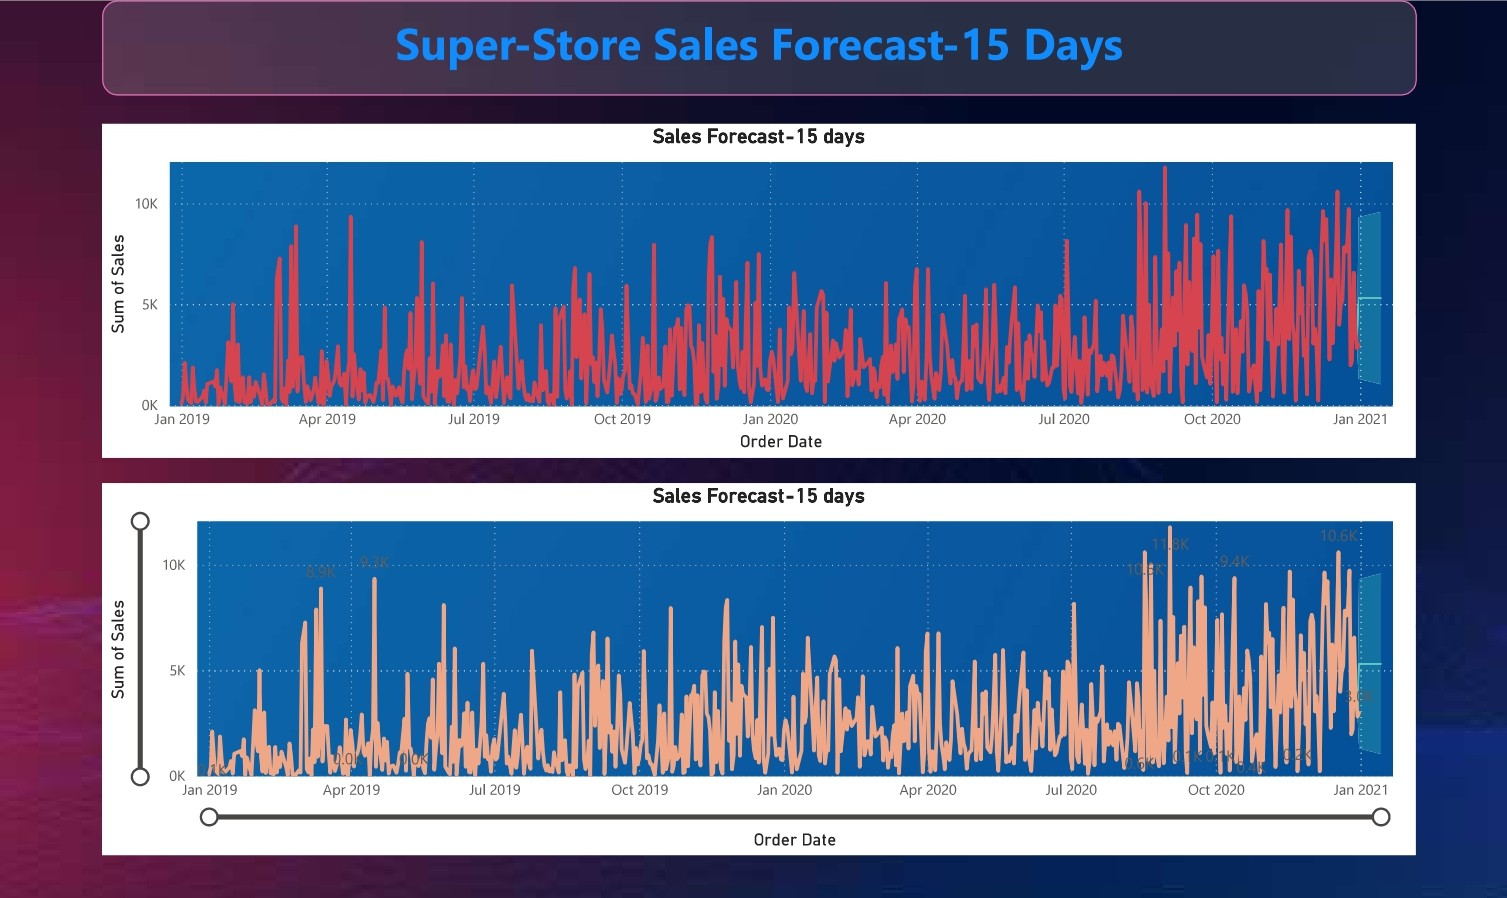

The page's visual inventory and layout, read from the dashboard file:
{"tool":"powerbi","page":{"name":"Page 2","canvas":[1280,720],"ordinal":1},"visuals":[{"type":"lineChart","title":"Sales Forecast-15 days","fields":{"Y":["Sum(SuperStore_Sales_Dataset.Sales)"],"Category":["SuperStore_Sales_Dataset.Order Date"]},"box":[88.1,406,1106,313.4],"z":0},{"type":"lineChart","title":"Sales Forecast-15 days","fields":{"Y":["Sum(SuperStore_Sales_Dataset.Sales)"],"Category":["SuperStore_Sales_Dataset.Order Date"]},"box":[88.1,104.5,1106,280.6],"z":1000},{"type":"textbox","box":[88.2,0,1106.6,80.3],"z":2000}]}

Visuals, with their boxes on the page's 1280x720 design canvas (x1, y1, x2, y2). These are canvas units, not pixel positions in the 1507x898 screenshot, which may show the page scaled, cropped or inside an application window:
"Sales Forecast-15 days" lineChart: x1=88 y1=406 x2=1194 y2=719
"Sales Forecast-15 days" lineChart: x1=88 y1=104 x2=1194 y2=385
textbox: x1=88 y1=0 x2=1195 y2=80
